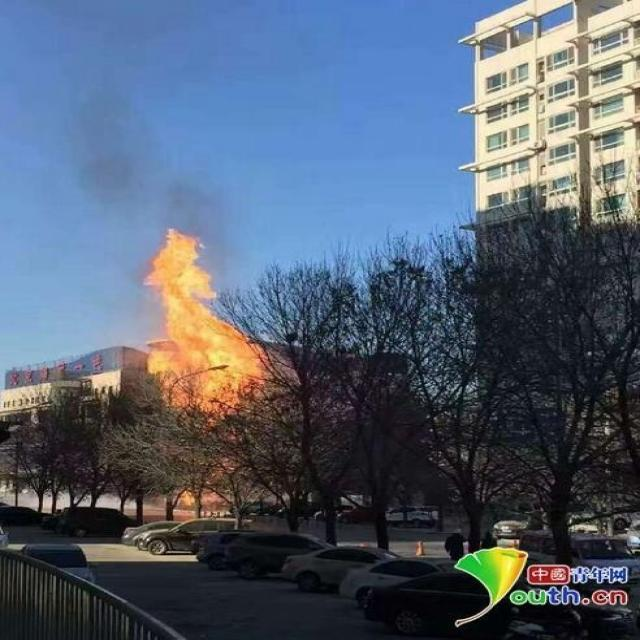Fire: (135, 228, 273, 424)
Smoke: (73, 107, 230, 230)
